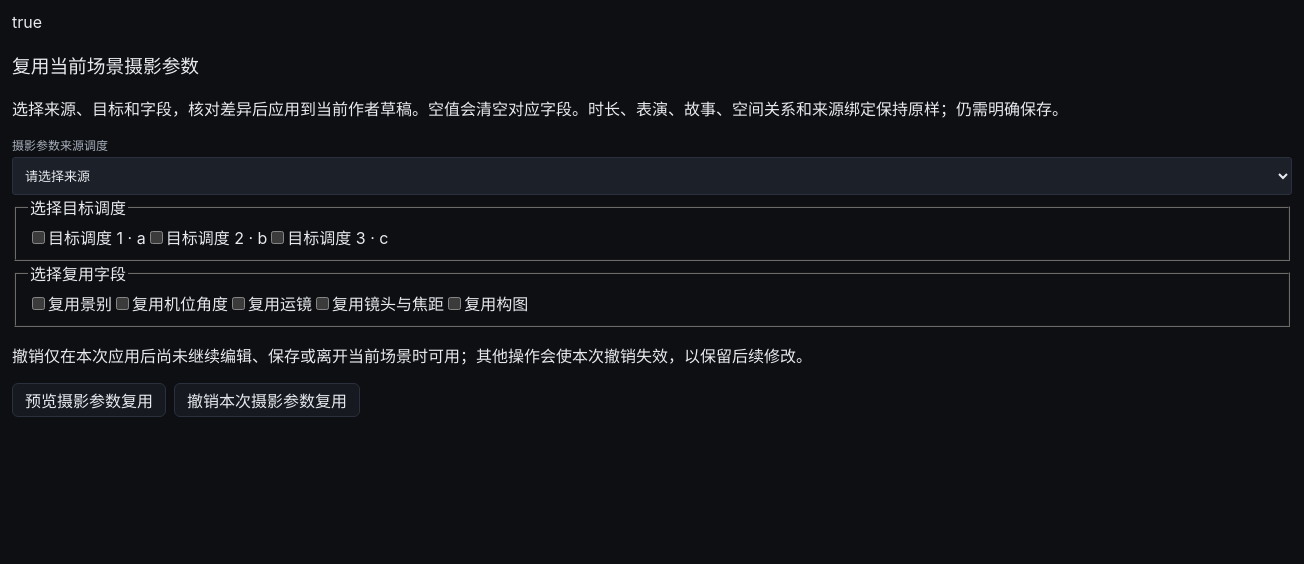
allows undo when Apply restores the saved baseline and parent computes dirty=false
Step 1. Select "调度 1 · a" in the dropdown labelled "摄影参数来源调度" → (652, 176), box [12, 157, 1292, 195]
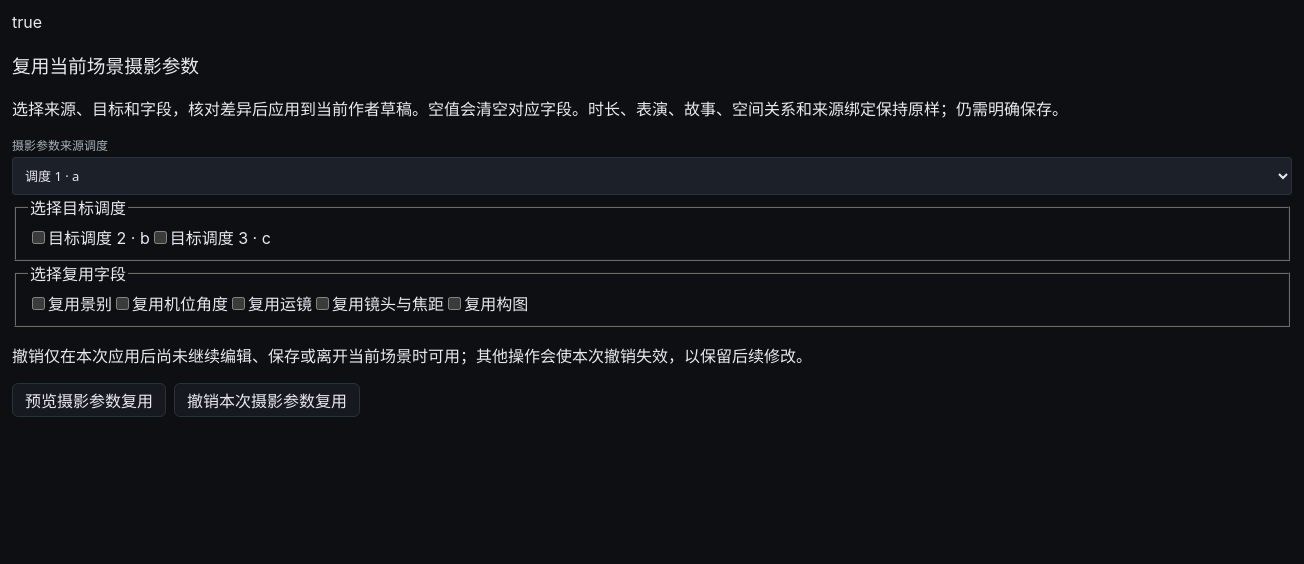
Step 2. Click the checkbox labelled "目标调度 2 · b" → (38, 238), box [32, 231, 45, 244]
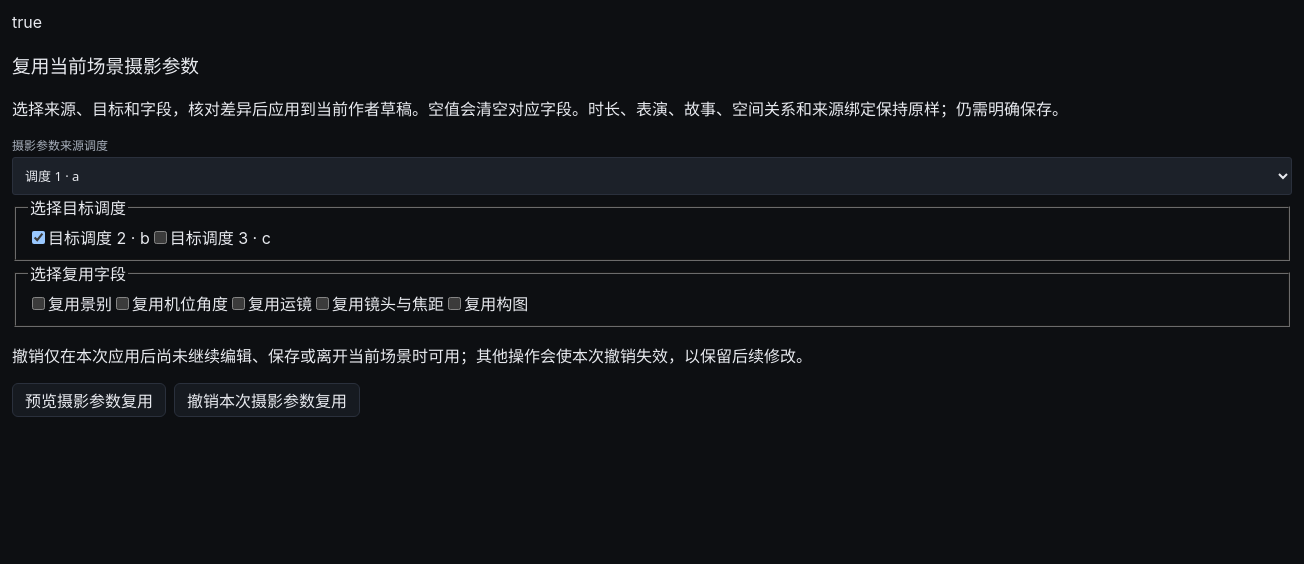
Step 3. Click the checkbox labelled "复用景别" → (38, 303), box [32, 297, 45, 310]
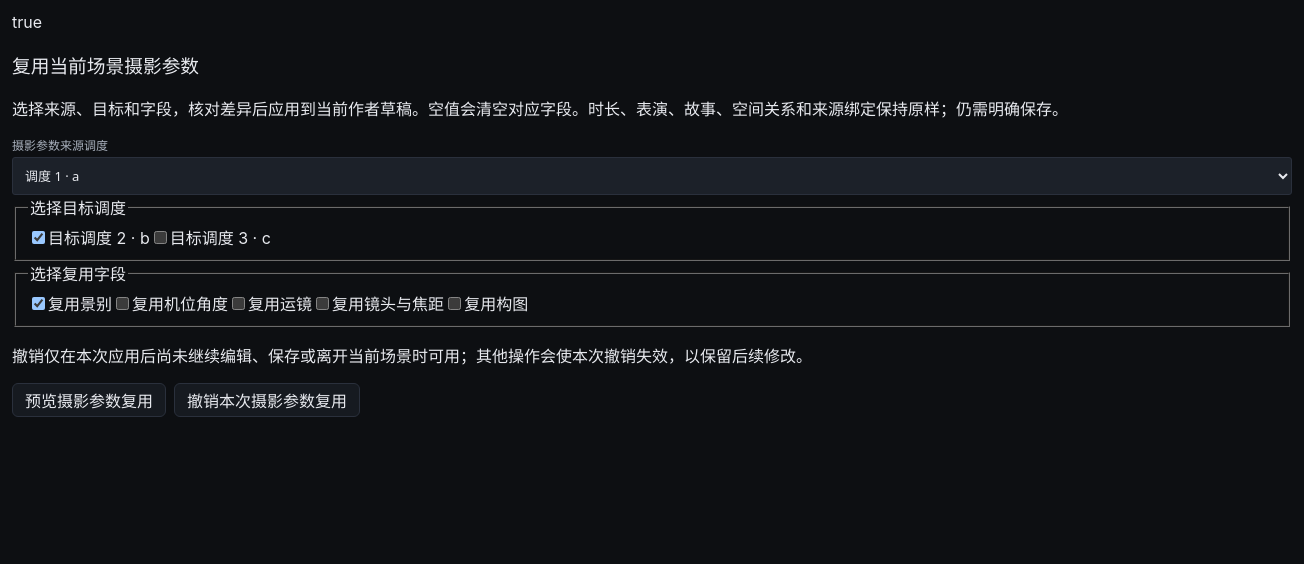
Step 4. Click the button "预览摄影参数复用" → (89, 400), box [12, 383, 166, 417]
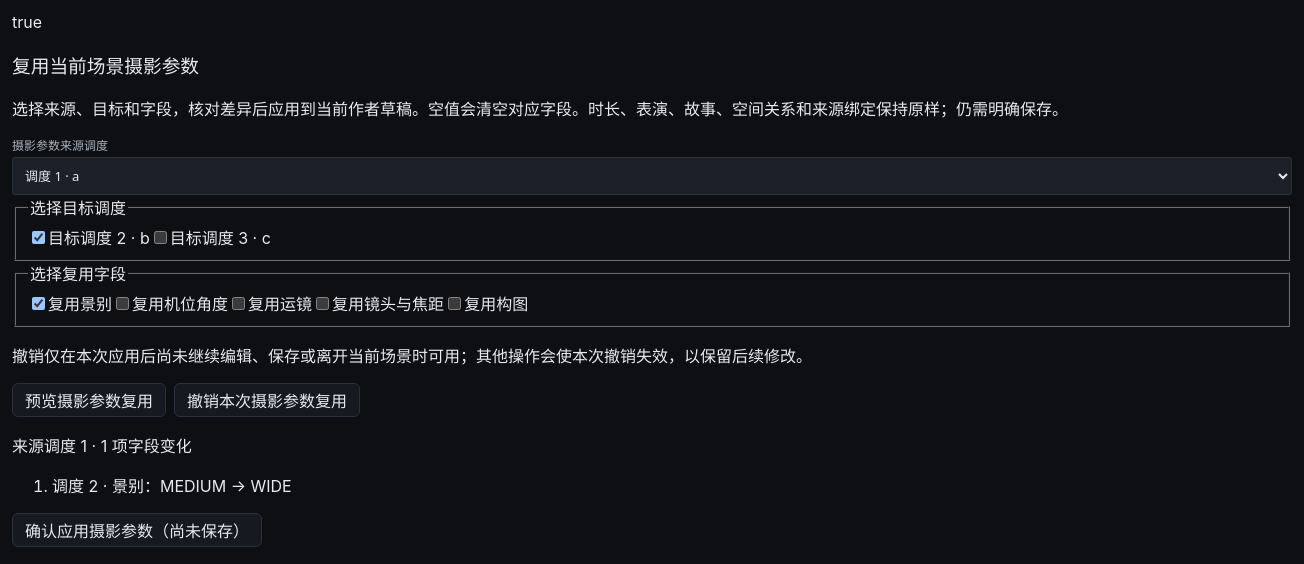
Step 5. Click the button "确认应用摄影参数（尚未保存）" → (137, 530), box [12, 513, 262, 547]
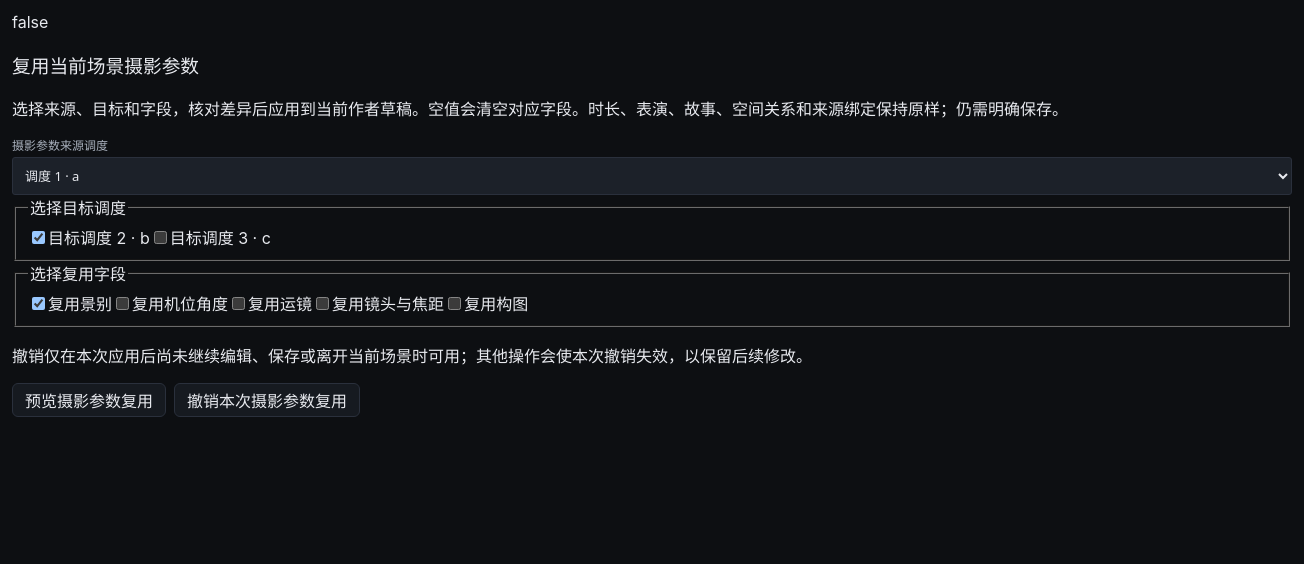
expect the text named "dirty state" reads "false": met, box [12, 12, 48, 32]
Step 6. Click the button "撤销本次摄影参数复用" → (267, 400), box [174, 383, 360, 417]
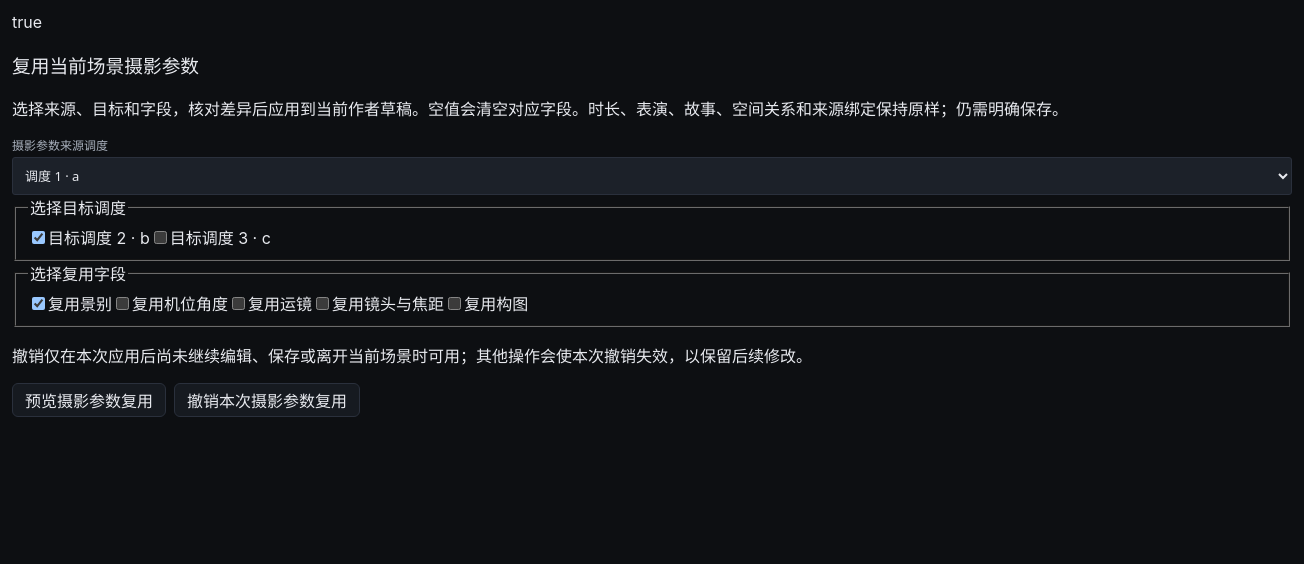
expect the text named "dirty state" reads "true": met, box [12, 12, 42, 32]
